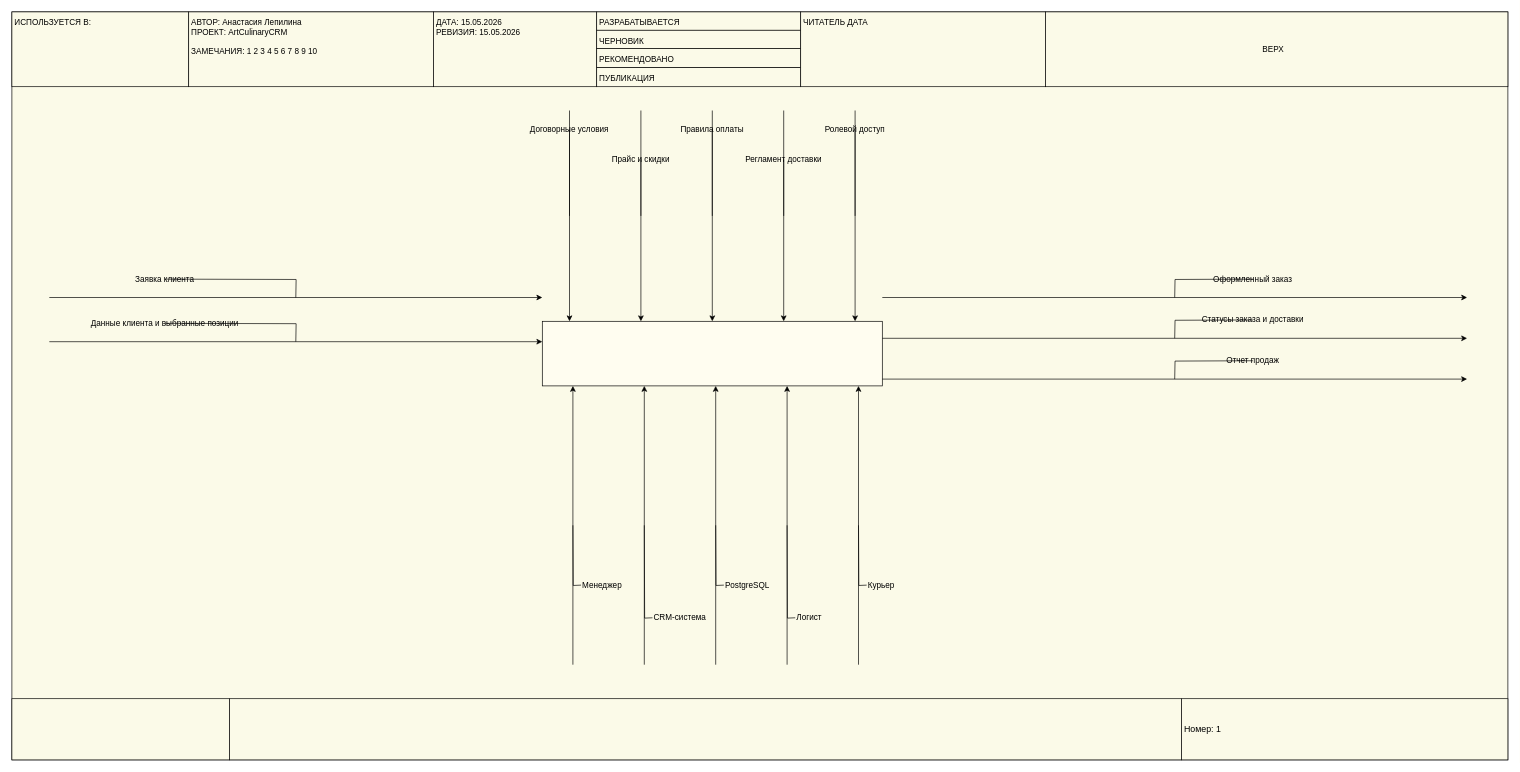
The diagram is 1520 pixels wide and 772 high, and some of its shapes have lost their labels. Each missing label, with the box of its shape:
Ветка: A0: (11, 698, 230, 760)
КОНТЕКСТ:: (1045, 11, 1508, 87)
Название: Продажа готовой еды с использованием CRM-системы «АРТ КУЛИНАРИЯ»: (229, 698, 1182, 760)
Продажа готовой еды с использованием CRM-системы «АРТ КУЛИНАРИЯ» A0: (542, 321, 882, 386)
